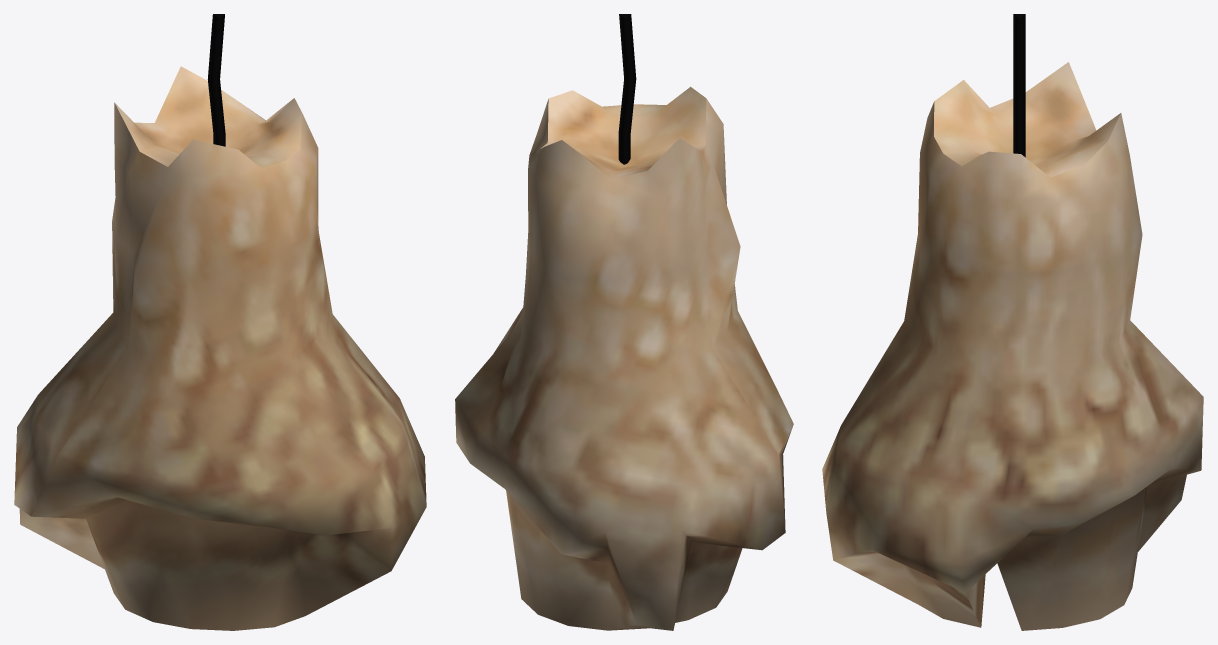
The model's file is candle01.fbx.
3 views of the same model, side by side, from view 1: azimuth 30°, elevation 25°; view 2: azimuth 150°, elevation 25°; view 3: azimuth 270°, elevation 25° (orthographic).
Parts seen in each view (by area): view 1: candle01; view 2: candle01; view 3: candle01.
Part boxes in pixels (bbox=[...]): candle01: bbox=[14, 14, 426, 630]; candle01: bbox=[455, 14, 793, 630]; candle01: bbox=[822, 14, 1203, 630].
Bounding box in the file's own units: 9.15 × 14.3 × 8.63.
